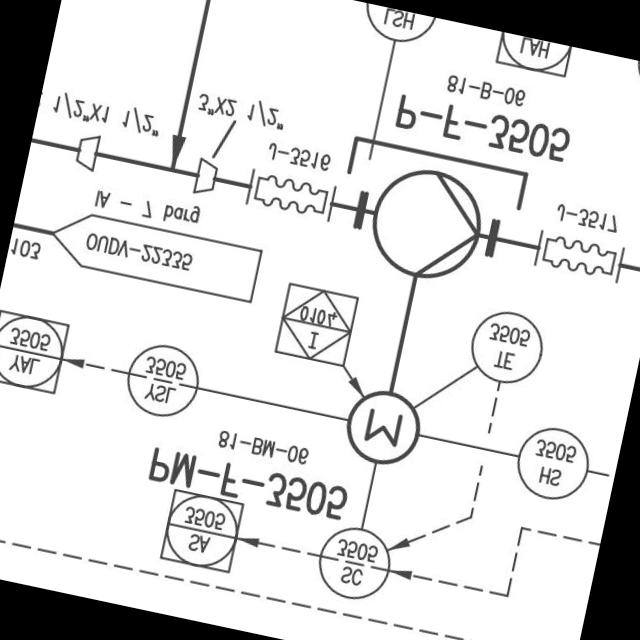EJ: (528, 226, 629, 288), (240, 166, 341, 225)
M: (336, 379, 428, 473)
P: (357, 154, 496, 292)
SP: (68, 130, 104, 177), (188, 156, 222, 204)
